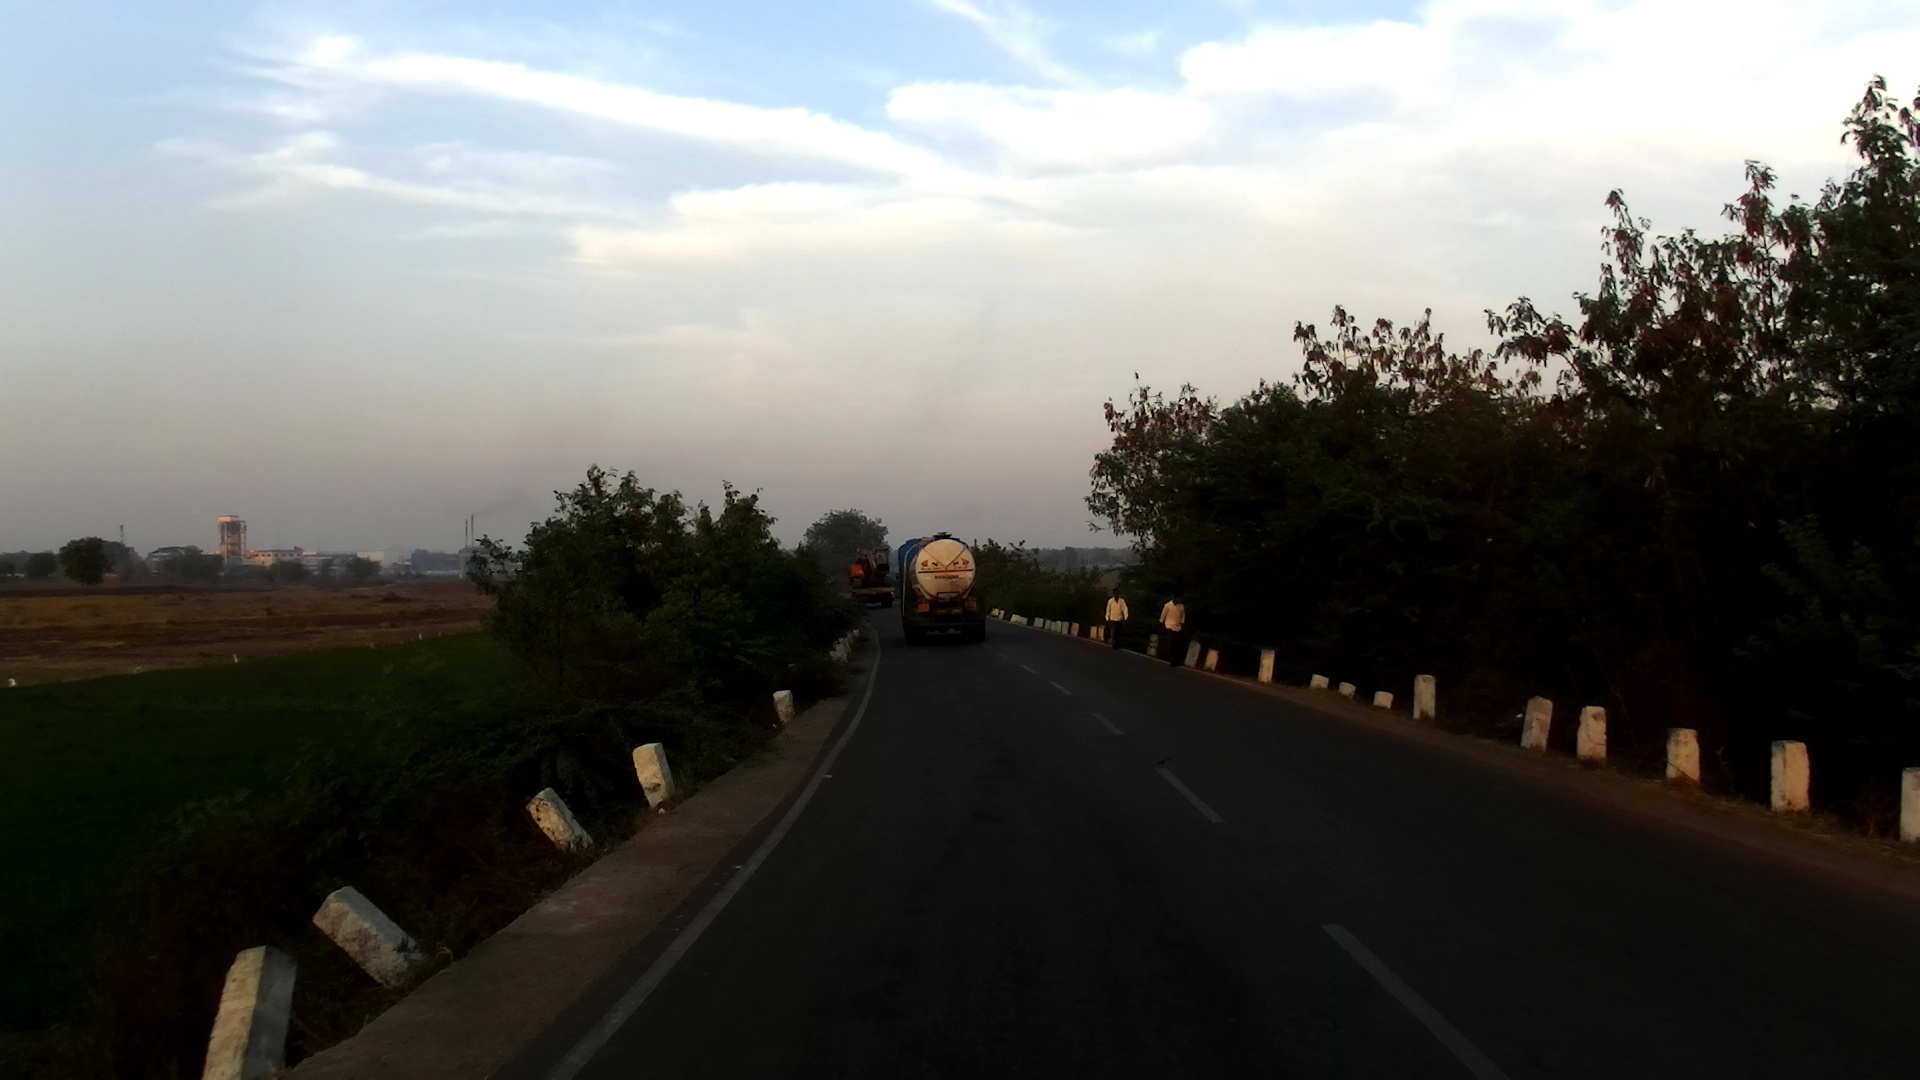person: (1157, 593, 1189, 669), (1105, 593, 1128, 651)
truck: (885, 526, 989, 646), (843, 546, 901, 613)
